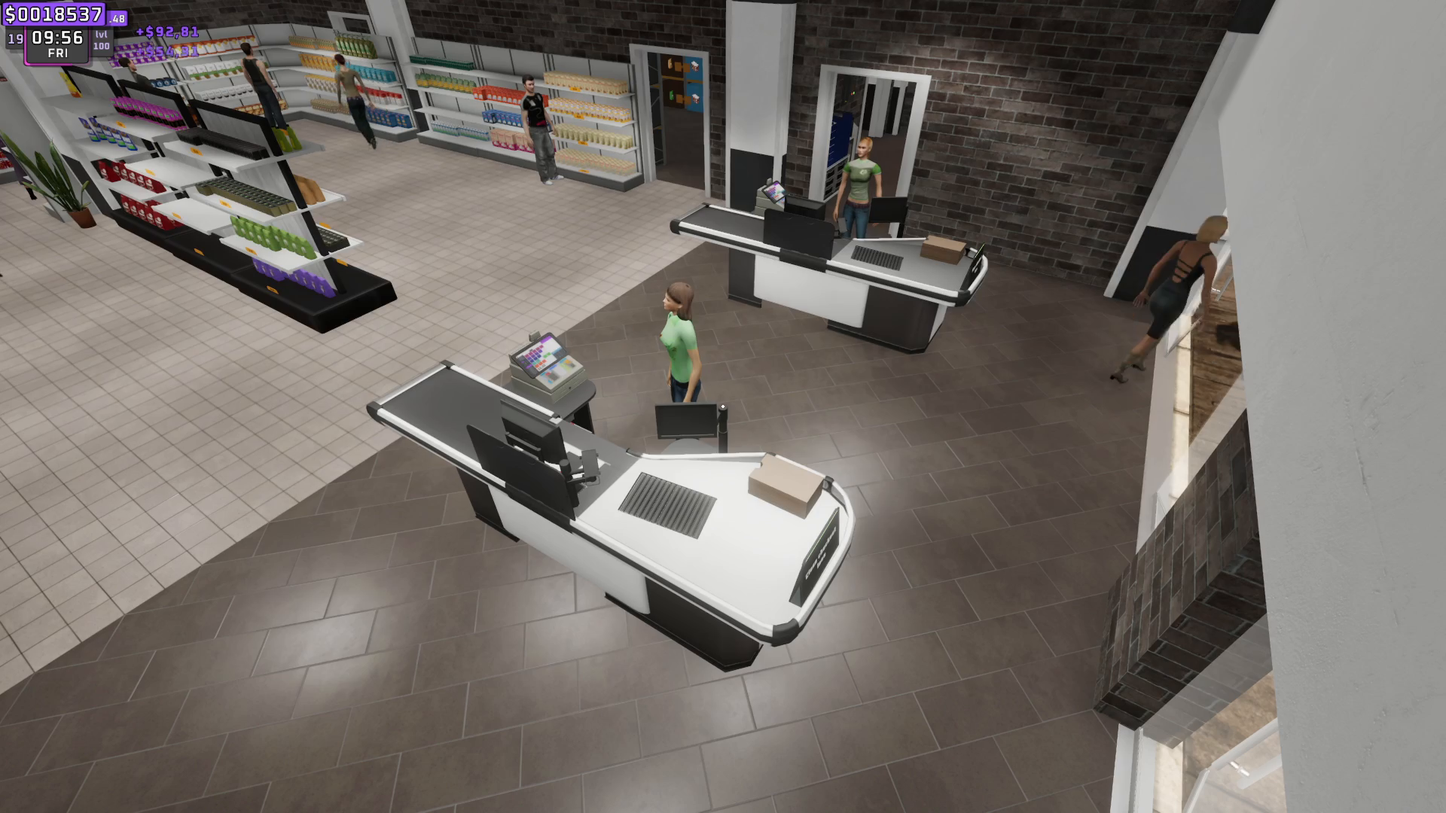Employee: (658, 281, 710, 399), (833, 136, 883, 230)
